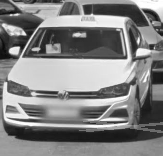car: (3, 14, 154, 138)
